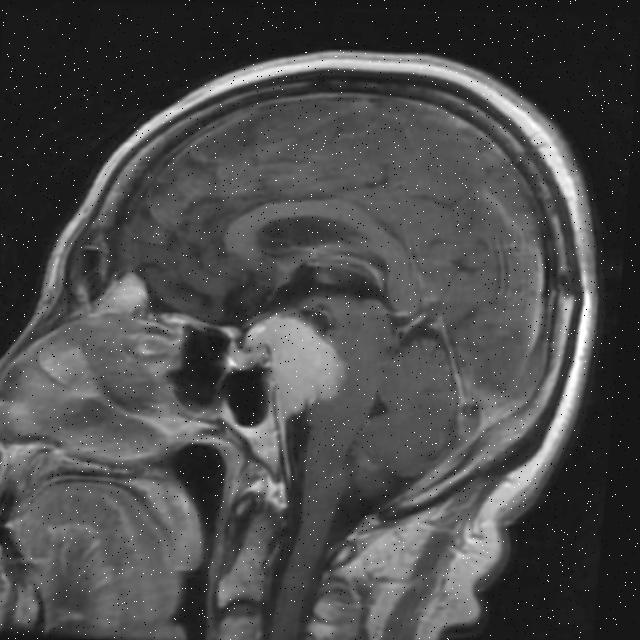Meningioma: (236, 309, 351, 421)
